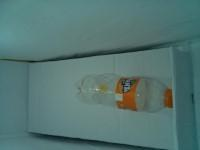bottle: (72, 73, 176, 113)
